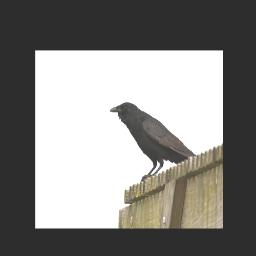Crow: (110, 101, 197, 183)
